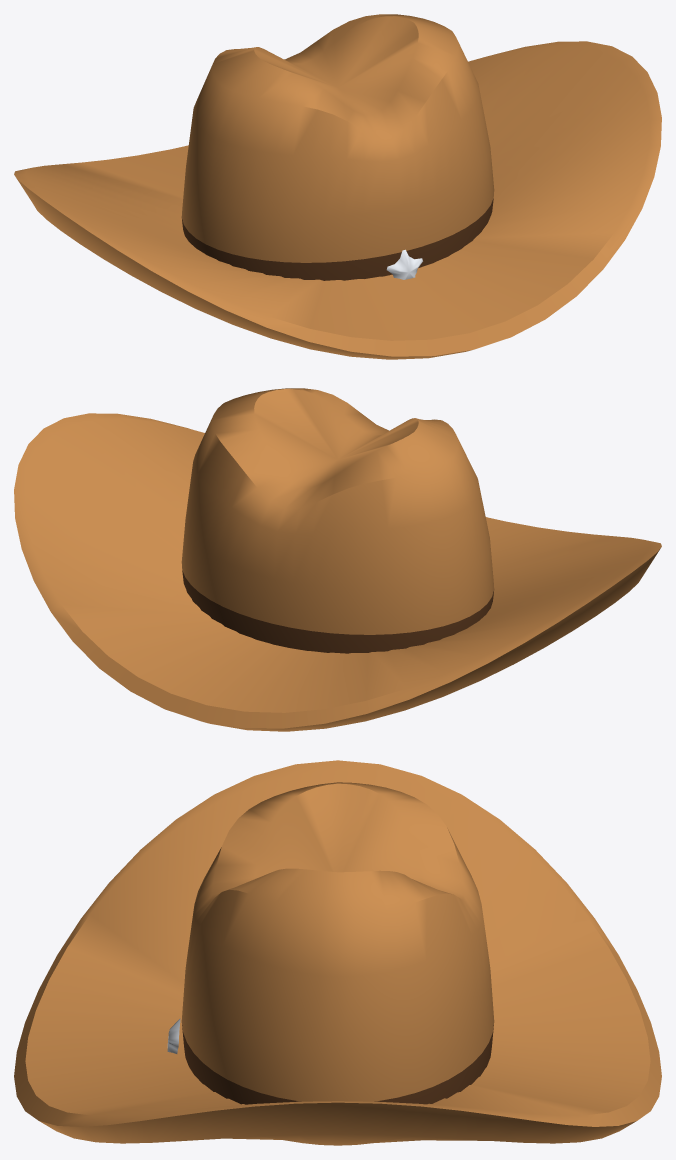
File: cowboy.glb
The picture shows the model from 3 angles, top to bottom: view 1: azimuth 30°, elevation 25°; view 2: azimuth 150°, elevation 25°; view 3: azimuth 270°, elevation 25°; orthographic projection. The views are drawn at different scales.
Parts seen in each view (by area): view 1: cowboy; view 2: cowboy; view 3: cowboy.
Boxes of the visible parts, x1,y1,x2,y2 form: cowboy: (14,14,661,359); cowboy: (14,388,661,731); cowboy: (14,760,661,1145).
Bounding box in the file's own units: 0.85 × 0.299 × 0.68.
